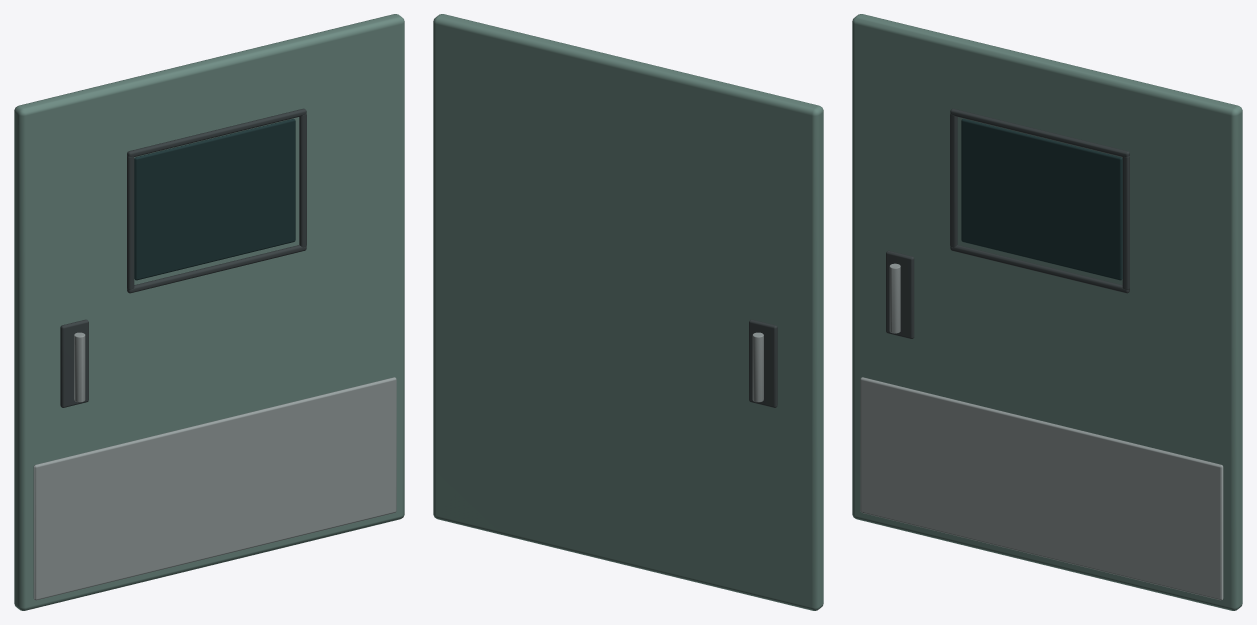
The model's file is H_SlidingLeaf.fbx.
3 renders of one model, left to right at view 1: azimuth 30°, elevation 25°; view 2: azimuth 150°, elevation 25°; view 3: azimuth 330°, elevation 25°, orthographic.
Parts seen in each view (by area): view 1: H_SlidingLeaf; view 2: H_SlidingLeaf; view 3: H_SlidingLeaf.
Boxes of the visible parts, box(x1,y1,x2,y2) form: H_SlidingLeaf: box(14, 14, 404, 610); H_SlidingLeaf: box(433, 14, 823, 610); H_SlidingLeaf: box(852, 14, 1242, 610).
Bounding box in the file's own units: 1.97 × 2.45 × 0.25.
